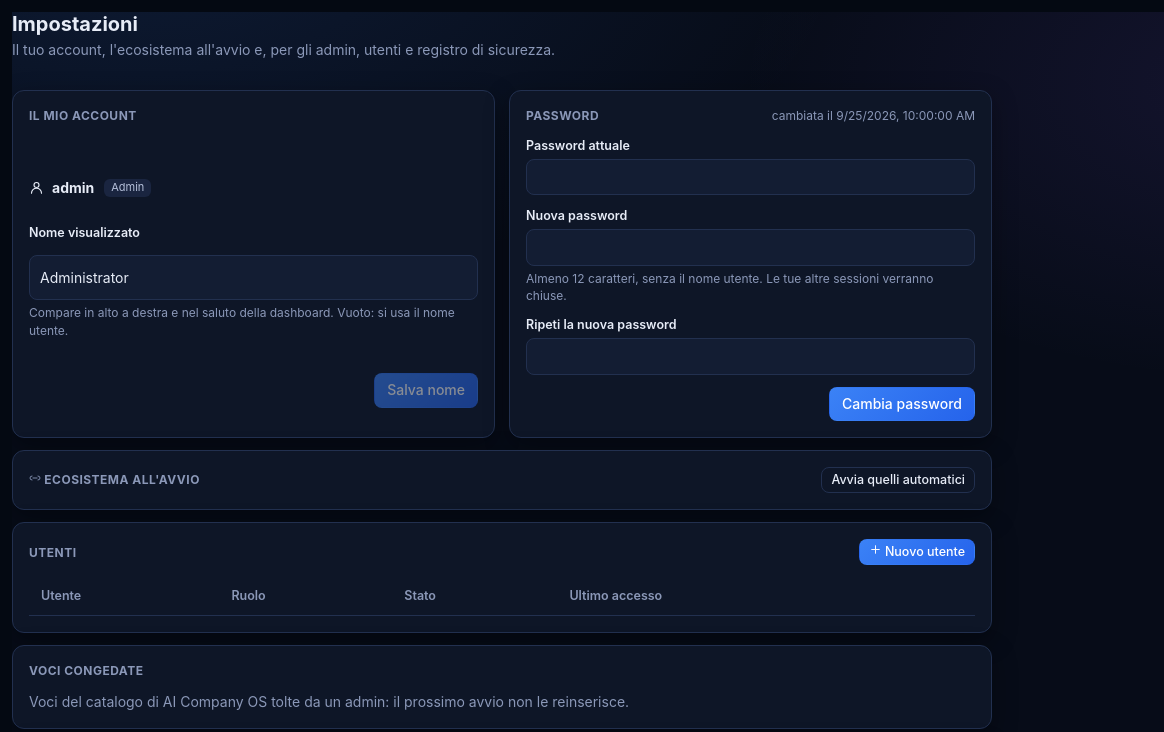
Test: my account (ADR-024) › saves the display name on the account, where the top bar reads it
Replace the text in the field labelled "Nome visualizzato" with "Gabriele" at (254, 278), box 29,255 -> 478,300
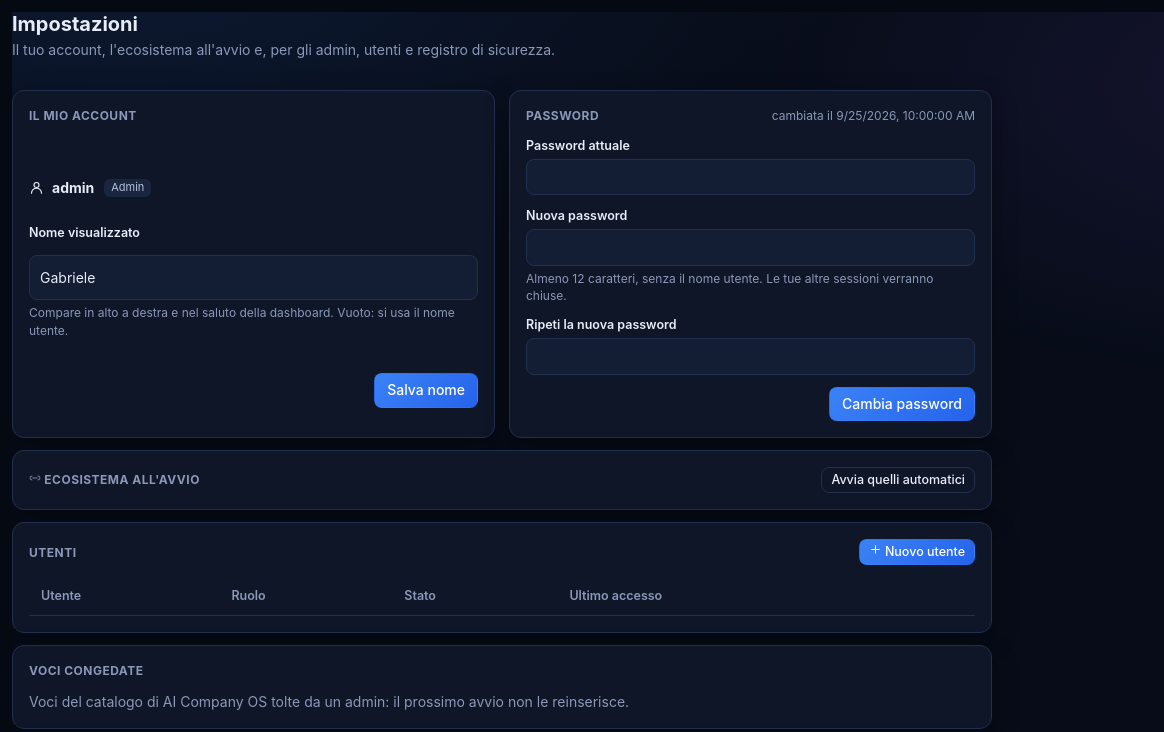
Click the button "Salva nome".
click(426, 391)  # box 374,373 -> 478,408
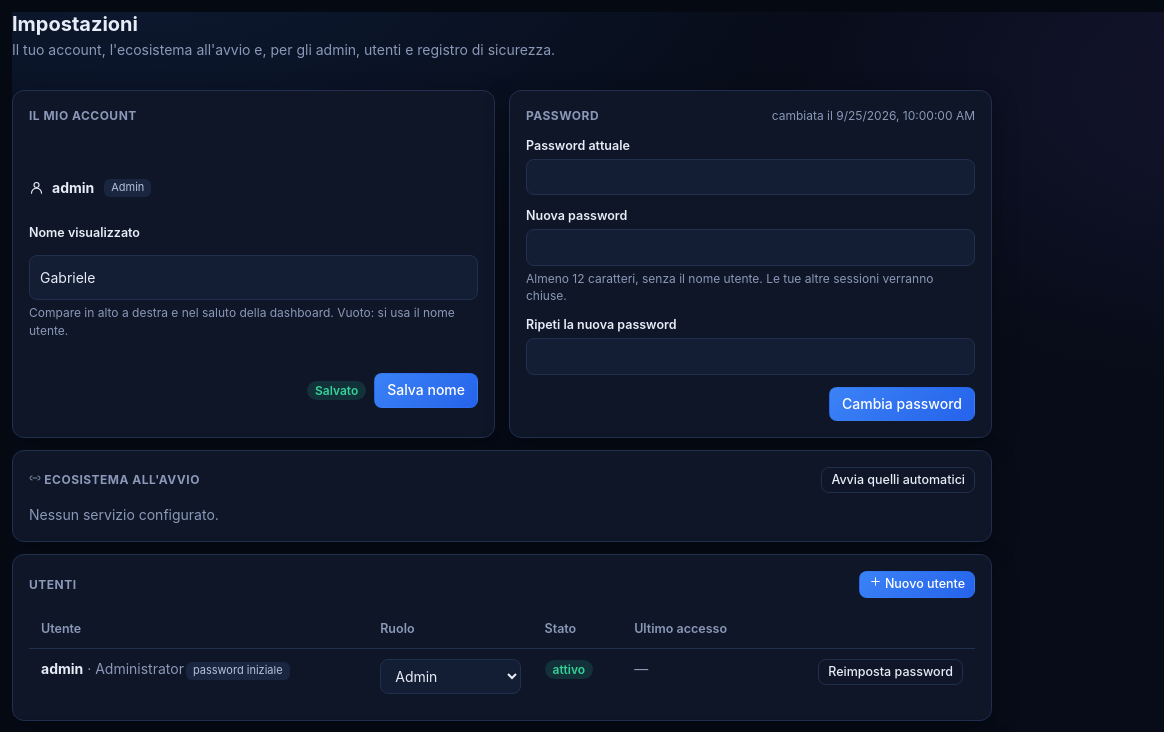
Check: the text "Salvato" is shown, box 307,381 -> 366,400
